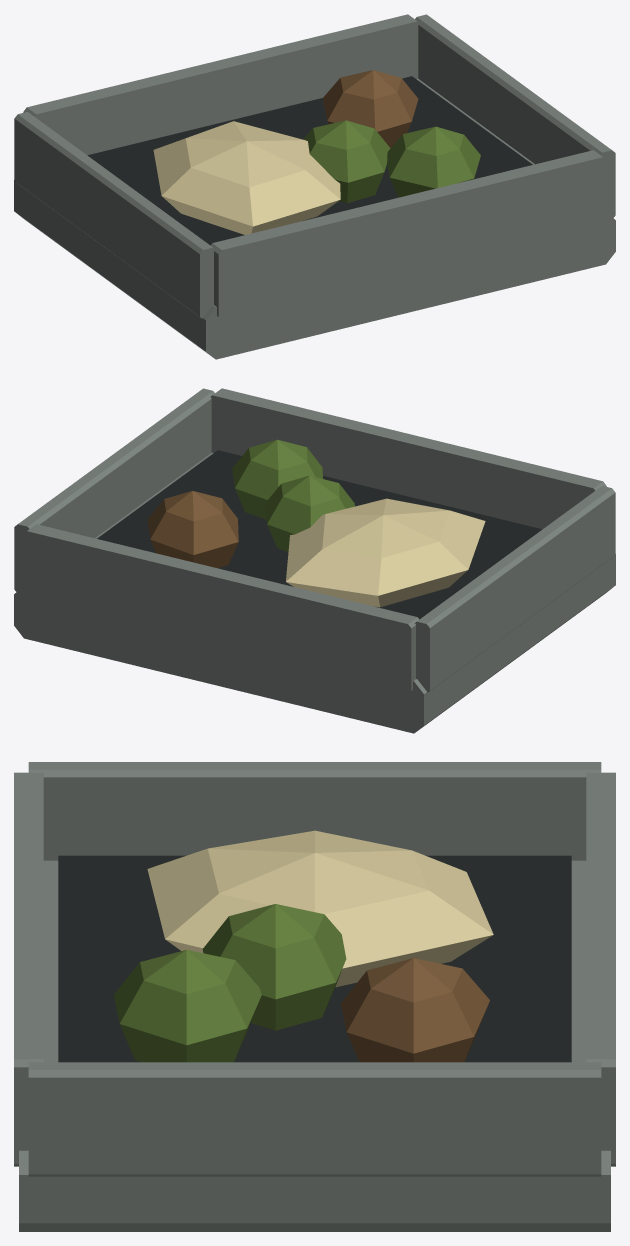
File: Meal.gltf
3 renders of one model, top to bottom at view 1: azimuth 30°, elevation 25°; view 2: azimuth 150°, elevation 25°; view 3: azimuth 270°, elevation 25°, orthographic. The views are drawn at different scales.
Parts seen in each view (by area): view 1: Meal; view 2: Meal; view 3: Meal.
Boxes of the visible parts, x1,y1,x2,y2 form: Meal: [14, 14, 615, 359]; Meal: [14, 388, 615, 733]; Meal: [14, 762, 615, 1231].
Size of the model in its own units: 0.375 by 0.109 by 0.305.
